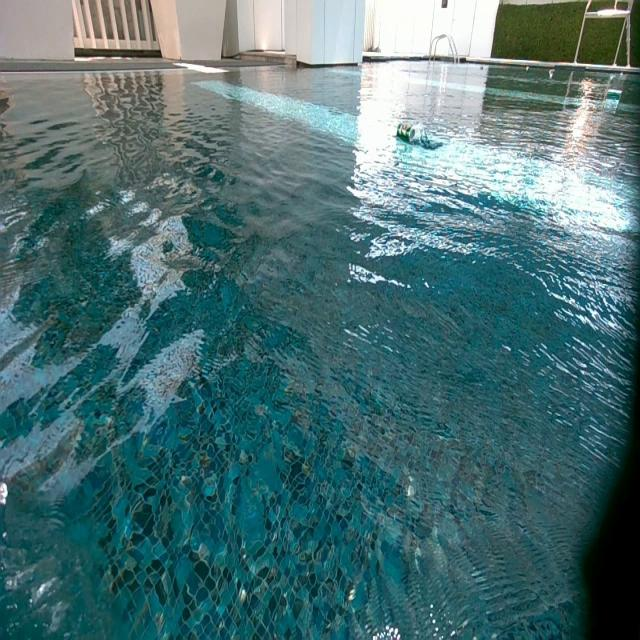Cans: (398, 122, 426, 144), (548, 70, 555, 78), (526, 66, 530, 72), (480, 66, 484, 71)
